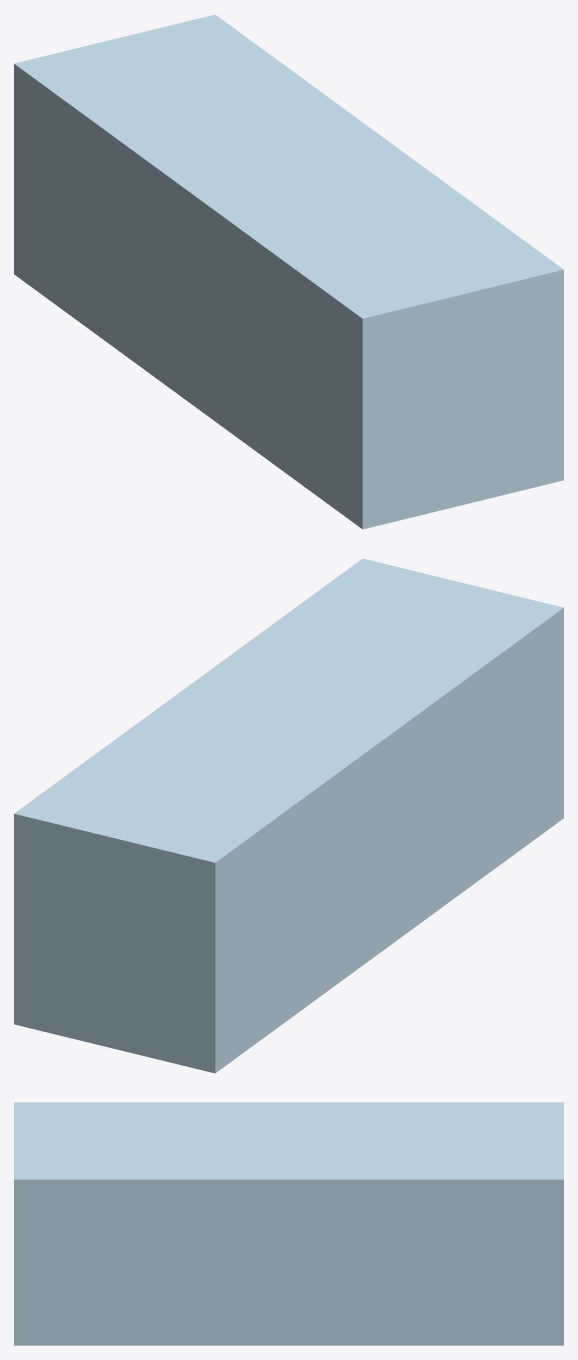
3 views of the same model, one above another, from view 1: azimuth 30°, elevation 25°; view 2: azimuth 150°, elevation 25°; view 3: azimuth 270°, elevation 25° (orthographic). The views are drawn at different scales.
Visible parts, largest first — view 1: Part 1 (×5); view 2: Part 1 (×5); view 3: Part 1 (×5).
Part boxes in pixels (x1=…): Part 1 (×5): x1=14, y1=14, x2=563, y2=529; Part 1 (×5): x1=14, y1=558, x2=563, y2=1073; Part 1 (×5): x1=14, y1=1102, x2=563, y2=1345.
Bounding box in the file's own units: 0.1 × 0.1 × 0.3.
